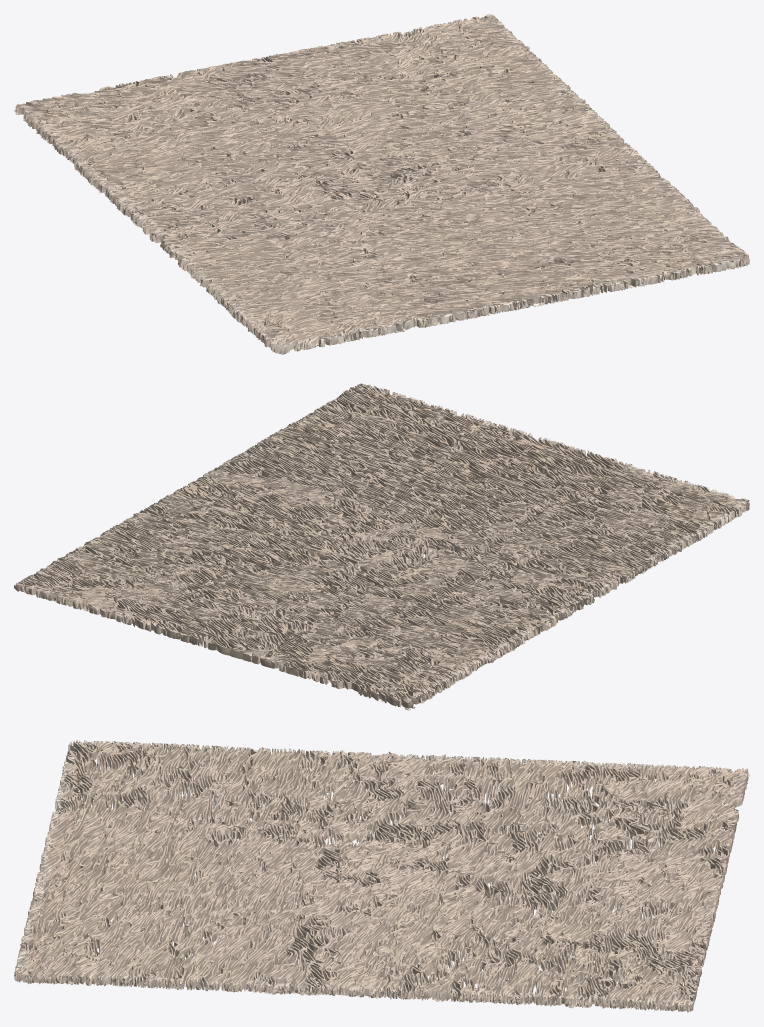
Rendered from room_rug.glb.
3 views of the same model, one above another, from view 1: azimuth 30°, elevation 25°; view 2: azimuth 150°, elevation 25°; view 3: azimuth 270°, elevation 25° (orthographic). The views are drawn at different scales.
Visible parts, largest first — view 1: mesh_node.008; view 2: mesh_node.008; view 3: mesh_node.008.
Boxes of the visible parts, x1,y1,x2,y2 form: mesh_node.008: (14,14,749,354); mesh_node.008: (14,383,749,710); mesh_node.008: (14,739,749,1012).
Size of the model in its own units: 2.43 by 0.0492 by 2.84.
Materials: 1 (1 with a texture image).
